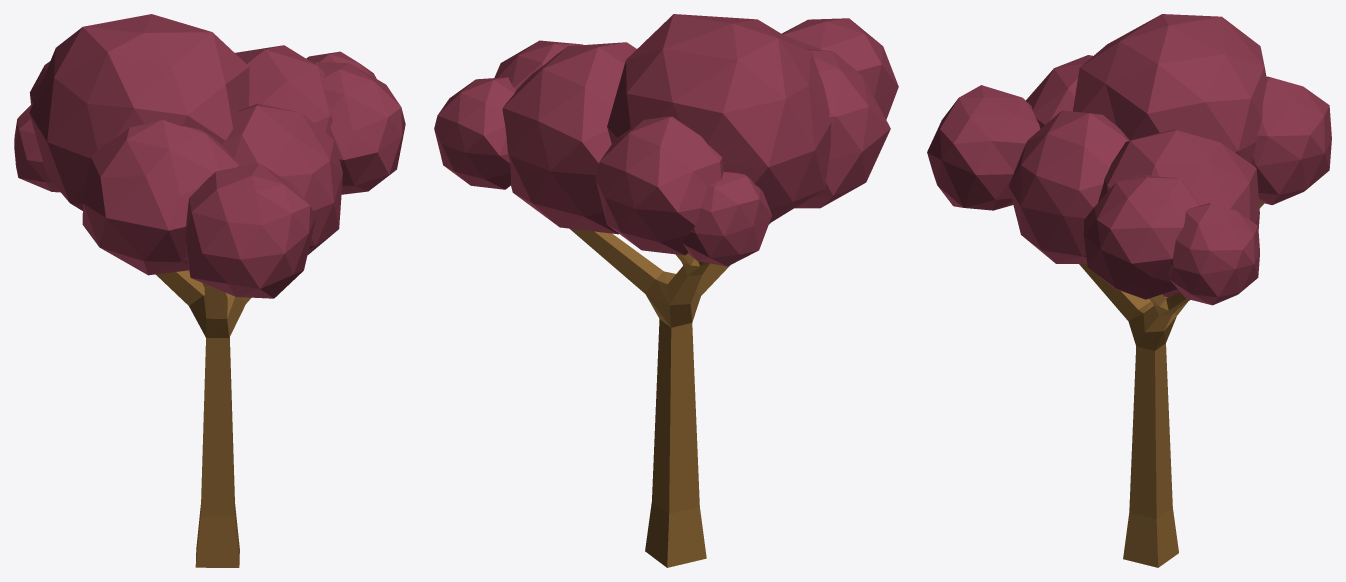
Rendered from tree2.glb.
3 views of the same model, side by side, from view 1: azimuth 30°, elevation 25°; view 2: azimuth 150°, elevation 25°; view 3: azimuth 270°, elevation 25° (orthographic). The views are drawn at different scales.
Parts seen in each view (by area): view 1: Object_4.004; view 2: Object_4.004; view 3: Object_4.004.
Boxes of the visible parts, x1,y1,x2,y2 form: Object_4.004: [14, 14, 405, 567]; Object_4.004: [434, 14, 898, 567]; Object_4.004: [927, 14, 1331, 567].
Size of the model in its own units: 0.8962 by 1.3 by 0.9549.
